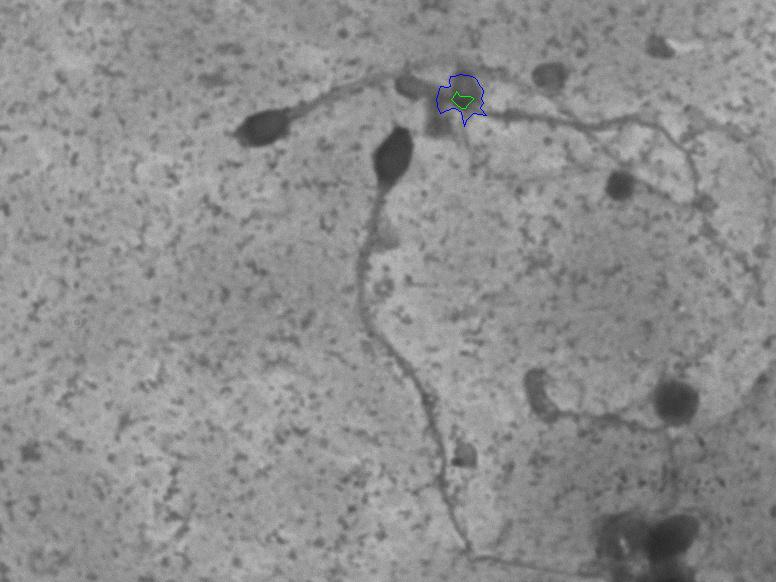Normal: (210, 43, 771, 308), (343, 114, 557, 576)
